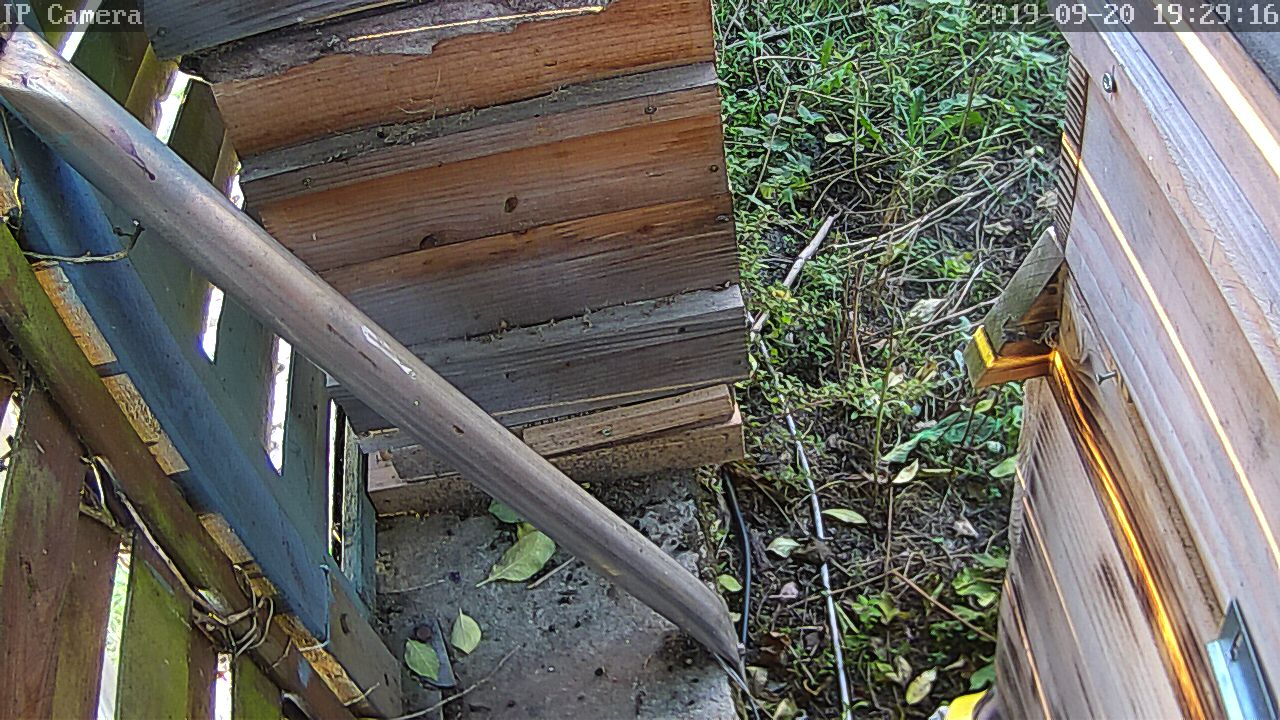hornet: (44, 0, 1176, 720)
